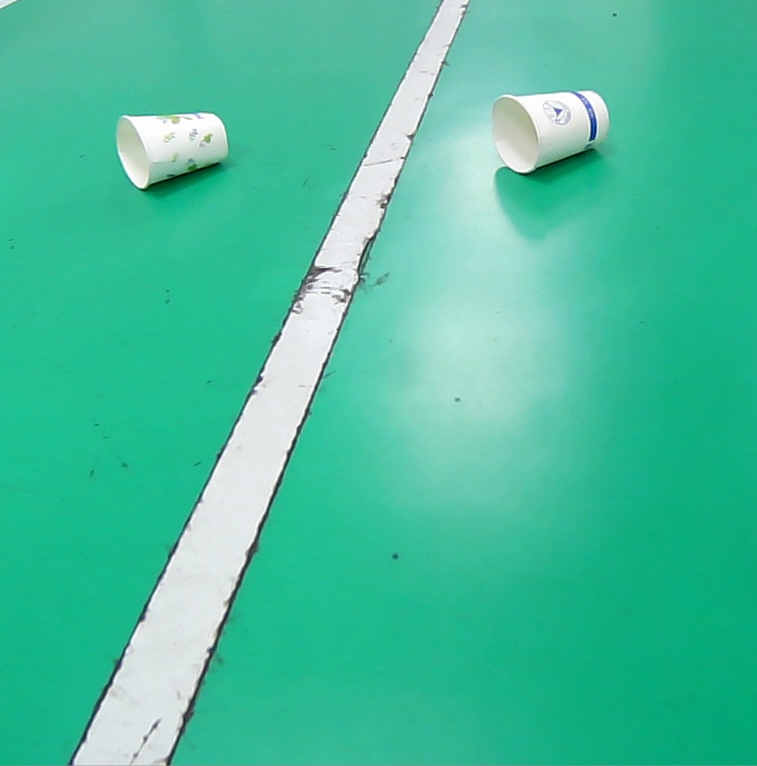papercup: (487, 87, 614, 177), (110, 110, 230, 193)
